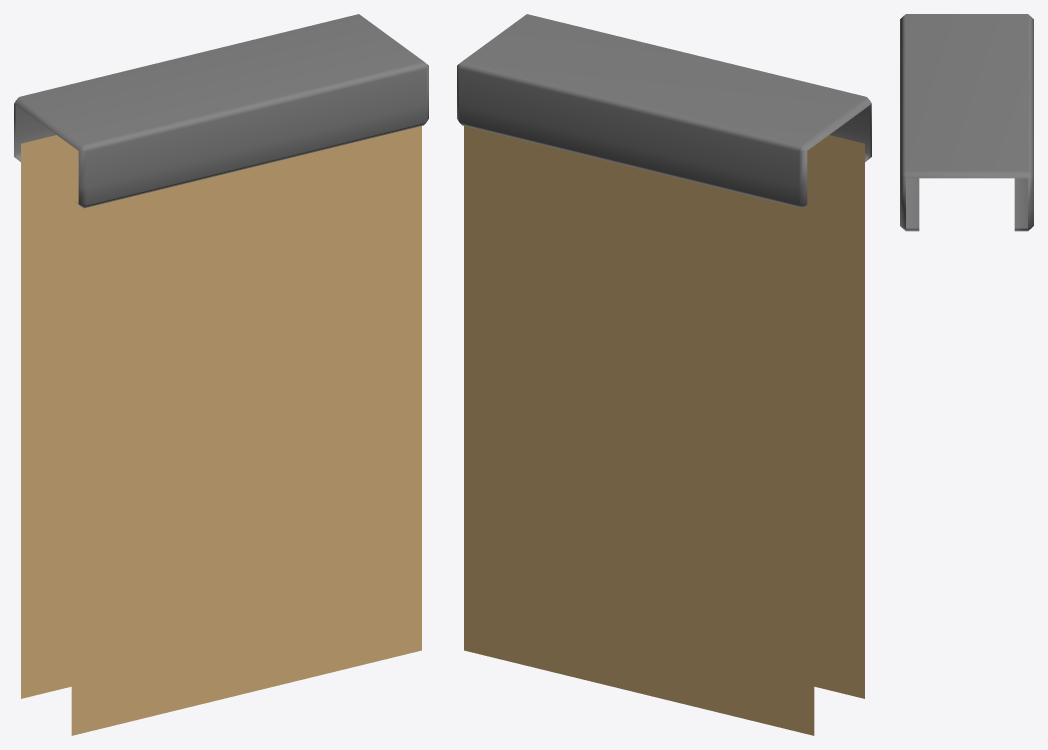
File: SM_WallA_4x6_LOD1.fbx
3 views of the same model, side by side, from view 1: azimuth 30°, elevation 25°; view 2: azimuth 150°, elevation 25°; view 3: azimuth 270°, elevation 25° (orthographic). The views are drawn at different scales.
Parts seen in each view (by area): view 1: SM_WallA_4x6_LOD1; view 2: SM_WallA_4x6_LOD1; view 3: SM_WallA_4x6_LOD1.
Part boxes in pixels (x1=…): SM_WallA_4x6_LOD1: x1=14, y1=14, x2=428, y2=735; SM_WallA_4x6_LOD1: x1=457, y1=14, x2=871, y2=735; SM_WallA_4x6_LOD1: x1=900, y1=14, x2=1033, y2=231.
Bounding box in the file's own units: 4 × 6.5 × 1.4.
